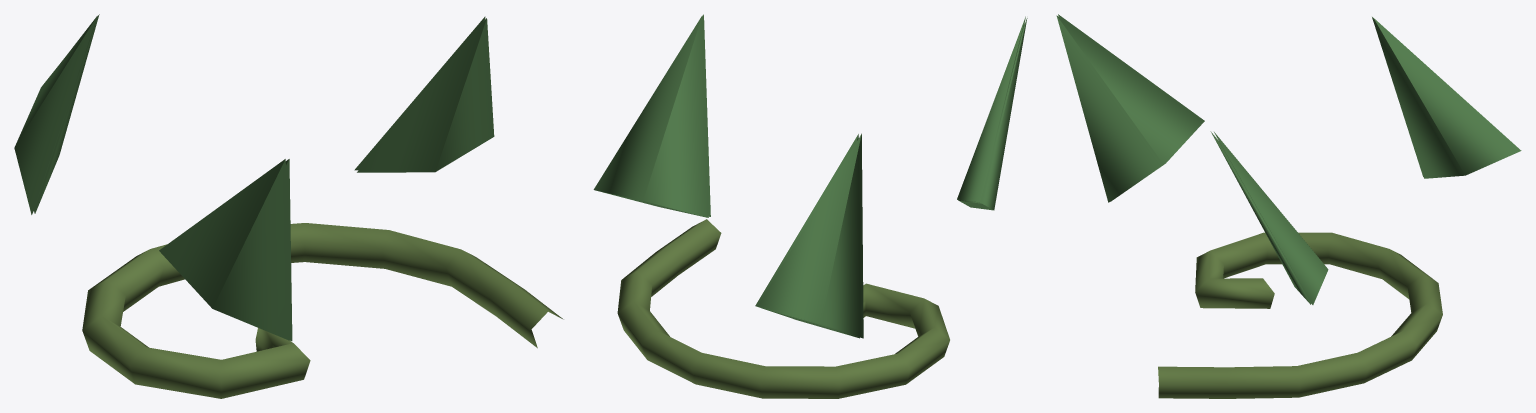
File: crop-watermelon-stage-2-vining.glb
3 renders of one model, left to right at view 1: azimuth 30°, elevation 25°; view 2: azimuth 150°, elevation 25°; view 3: azimuth 270°, elevation 25°, orthographic. The views are drawn at different scales.
Parts seen in each view (by area): view 1: crop-watermelon-stage-2-vining-beach-foliage, crop-watermelon-stage-2-vining-beach-stem; view 2: crop-watermelon-stage-2-vining-beach-foliage, crop-watermelon-stage-2-vining-beach-stem; view 3: crop-watermelon-stage-2-vining-beach-foliage, crop-watermelon-stage-2-vining-beach-stem.
Boxes of the visible parts, x1,y1,x2,y2 form: crop-watermelon-stage-2-vining-beach-foliage: (14,14,494,340); crop-watermelon-stage-2-vining-beach-stem: (82,223,563,398); crop-watermelon-stage-2-vining-beach-foliage: (593,14,1027,338); crop-watermelon-stage-2-vining-beach-stem: (617,219,949,398); crop-watermelon-stage-2-vining-beach-foliage: (1056,14,1521,304); crop-watermelon-stage-2-vining-beach-stem: (1158,232,1442,398).
Bounding box in the file's own units: 0.4907 × 0.3644 × 0.6092.
